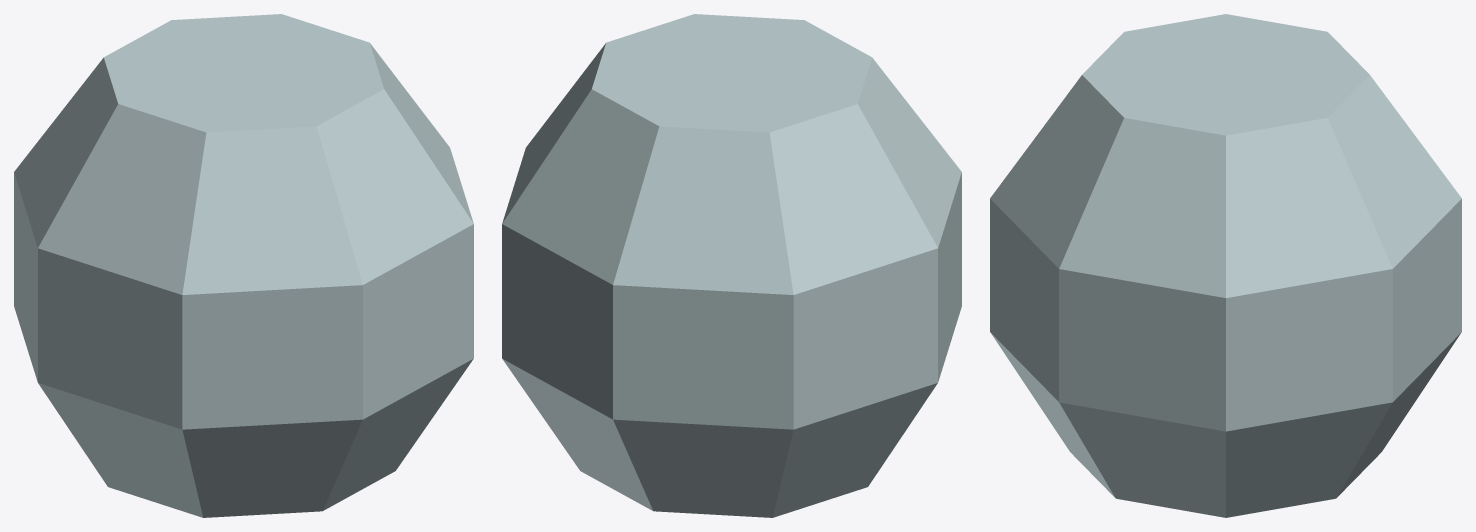
File: stone_smallH.glb
3 views of the same model, side by side, from view 1: azimuth 30°, elevation 25°; view 2: azimuth 150°, elevation 25°; view 3: azimuth 270°, elevation 25° (orthographic).
Parts seen in each view (by area): view 1: stone_smallH; view 2: stone_smallH; view 3: stone_smallH.
Boxes of the visible parts, x1,y1,x2,y2 form: stone_smallH: (14, 14, 473, 517); stone_smallH: (502, 14, 961, 517); stone_smallH: (990, 14, 1461, 517).
Size of the model in its own units: 0.4618 by 0.4074 by 0.4618.
